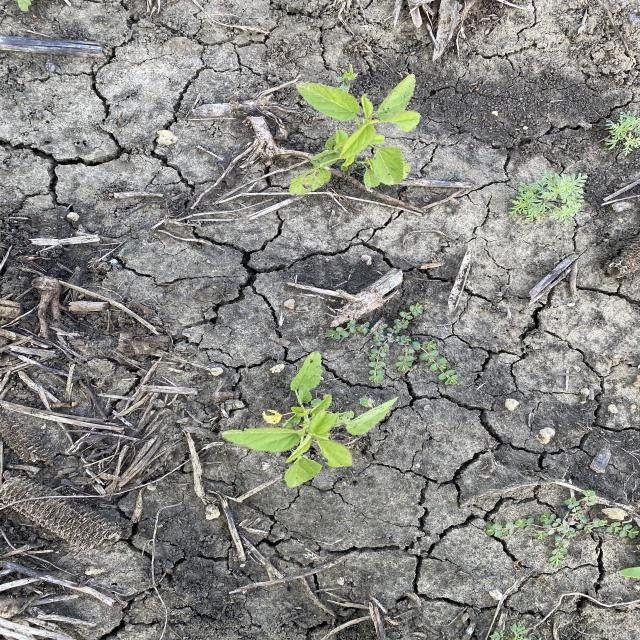PricklySida: (216, 348, 402, 491), (285, 71, 427, 200)
Ragweed: (506, 170, 591, 228), (603, 106, 639, 158)
SpottedSpurge: (482, 487, 638, 568), (321, 302, 460, 386)
